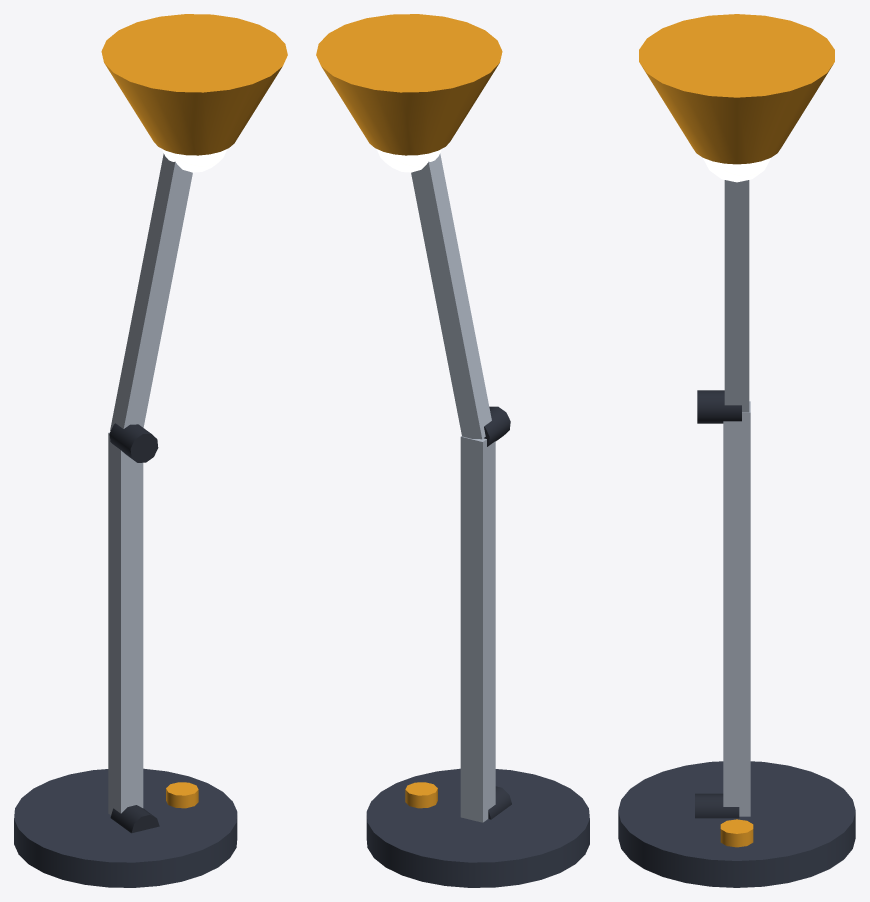
Rendered from lampara.glb.
3 views of the same model, side by side, from view 1: azimuth 30°, elevation 25°; view 2: azimuth 150°, elevation 25°; view 3: azimuth 270°, elevation 25° (orthographic). The views are drawn at different scales.
Parts seen in each view (by area): view 1: base, pantalla, brazo_inferior, brazo_superior, tornillo_medio, tornillo_inferior, bombilla, pulsador; view 2: base, pantalla, brazo_inferior, brazo_superior, bombilla, pulsador, tornillo_medio; view 3: base, pantalla, brazo_inferior, brazo_superior, tornillo_medio, bombilla, tornillo_inferior, pulsador.
Boxes of the visible parts, x1,y1,x2,y2 form: base: [14, 768, 237, 887]; pantalla: [101, 14, 287, 155]; brazo_inferior: [108, 432, 143, 815]; brazo_superior: [110, 153, 192, 430]; tornillo_medio: [109, 423, 158, 462]; tornillo_inferior: [110, 805, 159, 833]; bombilla: [162, 149, 227, 172]; pulsador: [166, 782, 198, 808]; base: [366, 768, 589, 887]; pantalla: [316, 14, 502, 155]; brazo_inferior: [460, 436, 495, 822]; brazo_superior: [411, 153, 491, 439]; bombilla: [376, 149, 441, 172]; pulsador: [405, 782, 437, 808]; tornillo_medio: [484, 406, 510, 446]; base: [618, 761, 855, 887]; pantalla: [639, 14, 834, 164]; brazo_inferior: [723, 401, 750, 816]; brazo_superior: [724, 180, 749, 412]; tornillo_medio: [697, 390, 741, 423]; bombilla: [703, 158, 770, 182]; tornillo_inferior: [695, 793, 739, 818]; pulsador: [720, 819, 753, 847].
Size of the model in its own units: 0.6105 by 1.82 by 0.48.
